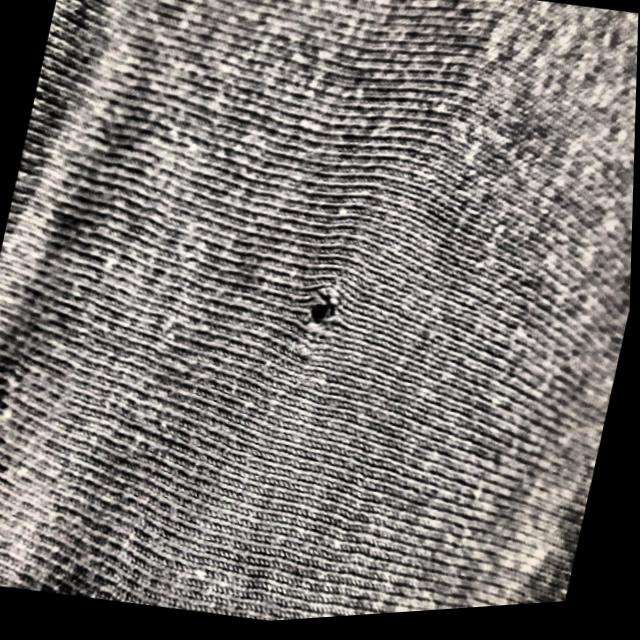Hole: (276, 301, 344, 392)
